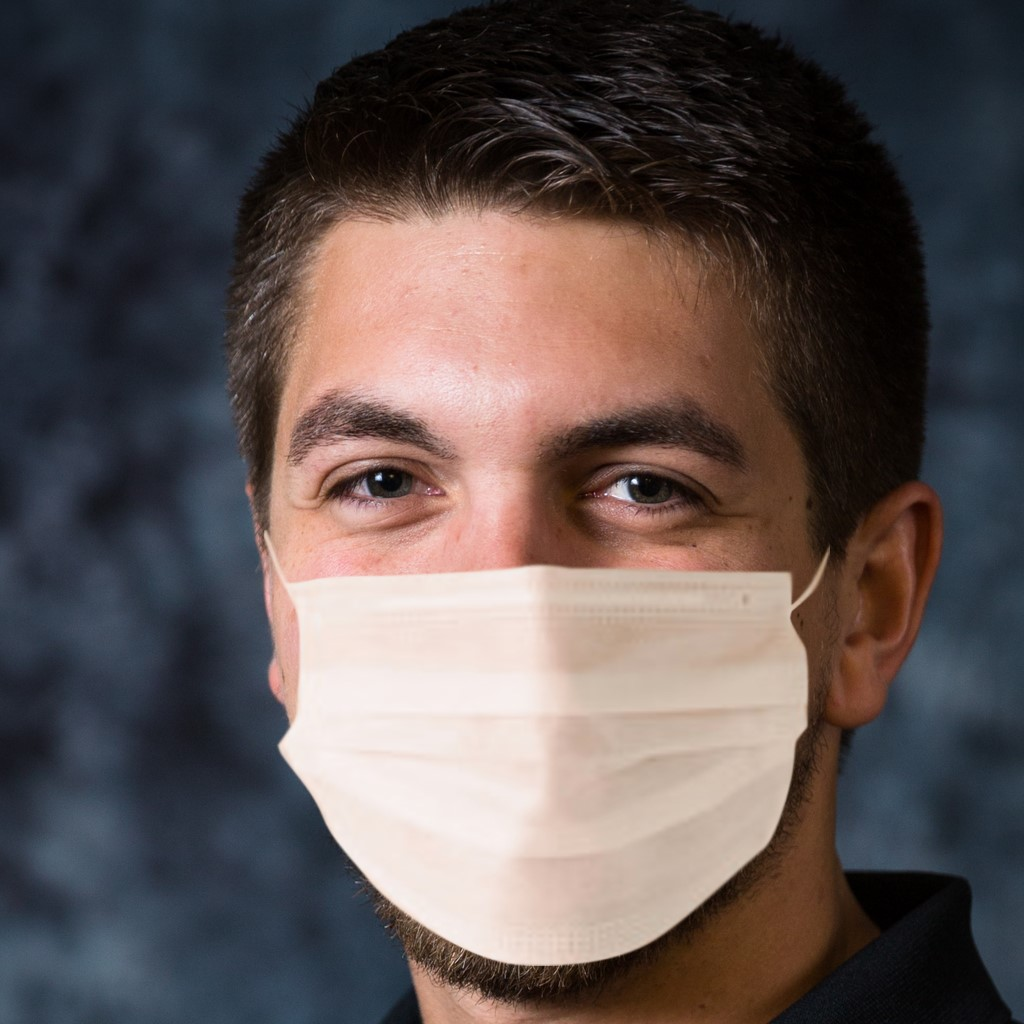con_mascara: (238, 98, 874, 978)
